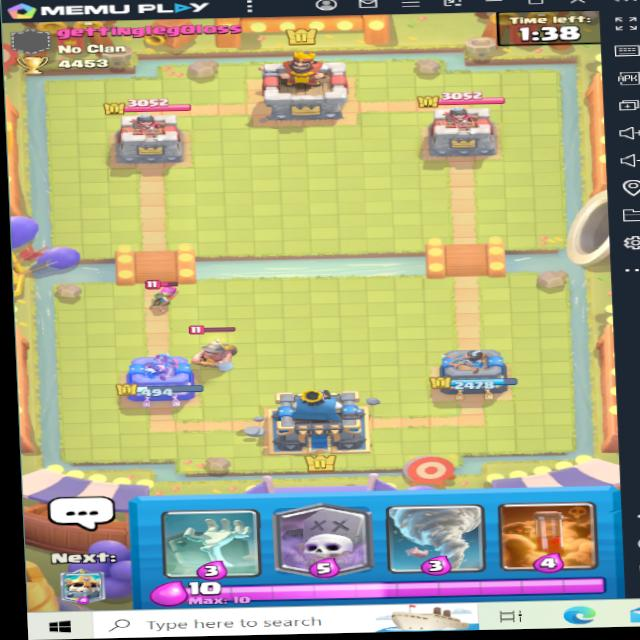archer: (140, 274, 186, 315)
miner: (187, 321, 245, 372)
